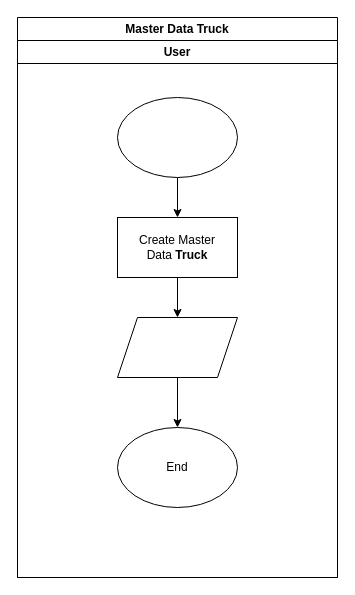
The diagram is 355 pixels wide and 595 high, and some of its shapes have lost their labels. Here are the shapes that lost their labels. From the top down, the box of each, then its label:
(116, 96, 238, 178): Start
(116, 316, 238, 378): Master Data Barang
